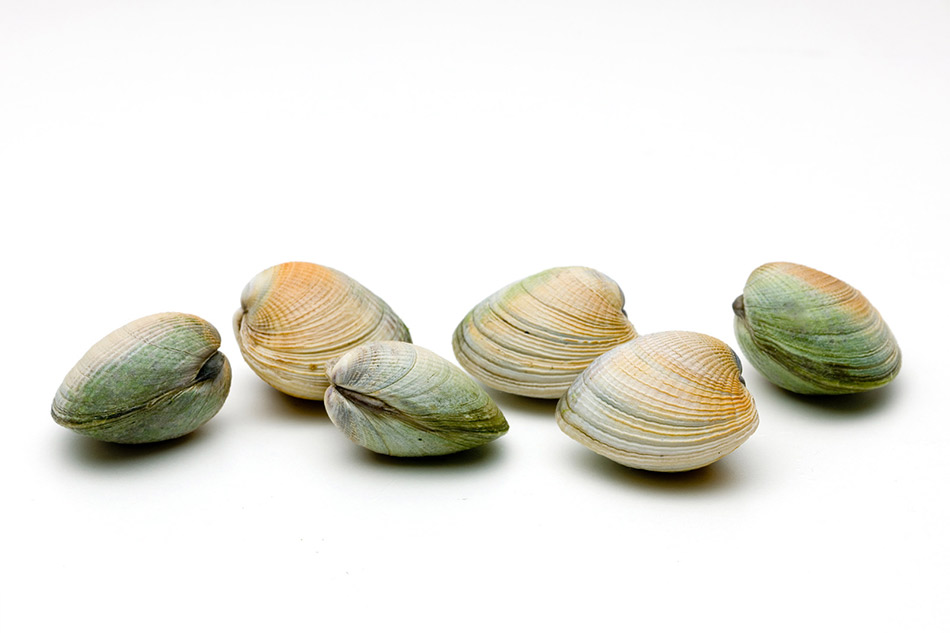cockle: (554, 330, 763, 476), (41, 307, 241, 455), (447, 262, 643, 400), (236, 257, 417, 406), (729, 258, 907, 404), (320, 341, 512, 459)
